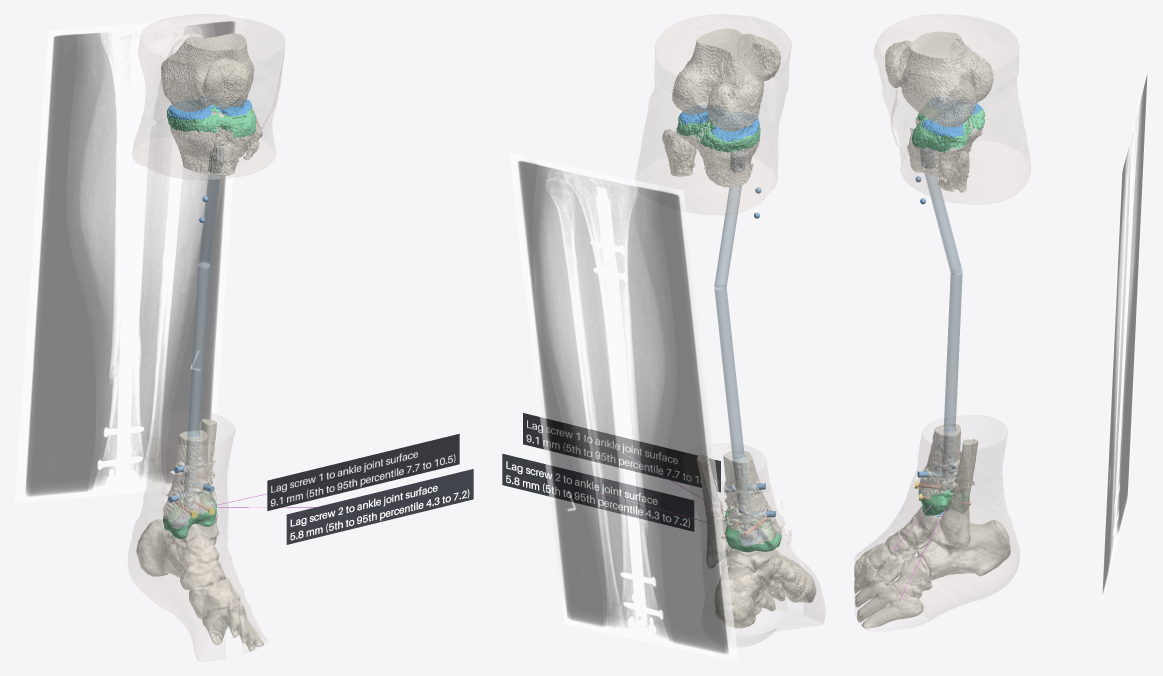
The picture shows the model from 3 angles, left to right: view 1: azimuth 30°, elevation 25°; view 2: azimuth 150°, elevation 25°; view 3: azimuth 270°, elevation 25°; orthographic projection. The views are drawn at different scales.
Parts seen in each view (by area): view 1: radiograph, skin, implant_8, tibia, implant_16, tarsal, femur, nail_modelled, patella, metatarsal, capsule_band_knee, nail (+3 smaller); view 2: radiograph, skin, femur, implant_17, implant_9, tibia, tarsal, nail_modelled, fibula, articular_surface_knee, capsule_band_knee, nail (+3 smaller); view 3: skin, radiograph, tarsal, femur, tibia, fibula, nail_modelled, metatarsal, capsule_band_knee, articular_surface_knee, nail, patella (+1 smaller).
Boxes of the visible parts, <box> form: radiograph: <box>14,14,244,503</box>; skin: <box>128,14,284,659</box>; implant_8: <box>267,434,459,510</box>; tibia: <box>163,108,254,539</box>; implant_16: <box>286,469,473,544</box>; tarsal: <box>136,516,240,618</box>; femur: <box>161,33,254,111</box>; nail_modelled: <box>187,175,220,437</box>; patella: <box>202,57,250,109</box>; metatarsal: <box>202,599,263,651</box>; capsule_band_knee: <box>167,100,256,138</box>; nail: <box>183,145,224,509</box>; radiograph: <box>509,153,738,661</box>; skin: <box>636,14,824,647</box>; femur: <box>672,28,764,131</box>; implant_17: <box>502,453,693,531</box>; implant_9: <box>523,413,720,492</box>; tibia: <box>676,117,781,551</box>; tarsal: <box>715,531,806,628</box>; nail_modelled: <box>714,185,744,459</box>; fibula: <box>662,129,729,568</box>; articular_surface_knee: <box>678,105,759,141</box>; capsule_band_knee: <box>676,111,760,152</box>; nail: <box>730,149,752,531</box>; skin: <box>855,14,1030,620</box>; radiograph: <box>1101,65,1148,603</box>; tarsal: <box>859,506,1010,597</box>; femur: <box>900,31,993,127</box>; tibia: <box>907,118,983,515</box>; fibula: <box>938,150,978,546</box>; nail_modelled: <box>924,173,962,431</box>; metatarsal: <box>854,558,923,628</box>; capsule_band_knee: <box>912,105,985,152</box>; articular_surface_knee: <box>922,97,982,137</box>; nail: <box>920,148,955,492</box>; patella: <box>885,40,911,88</box>.
Size of the model in its own units: 0.3301 by 0.5338 by 0.2442.
Materials: 15 (3 with a texture image).
